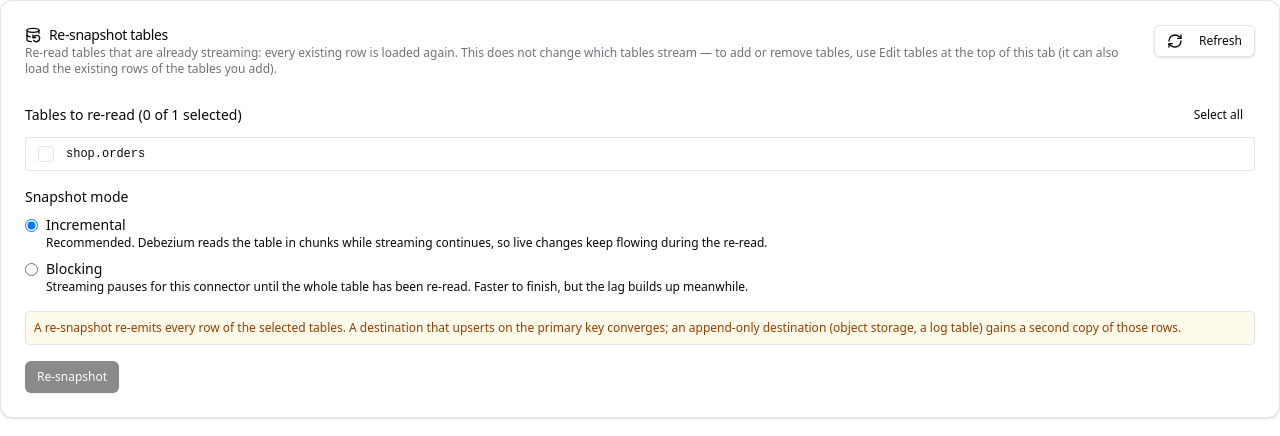
it: CdcResnapshotCard › tells the operator a retry will not help when the pipeline has no signal channel
This screenshot has width=1280, height=436.
Click the checkbox named "Re-snapshot shop.orders" at (46, 154), box x1=38 y1=146 x2=54 y2=162
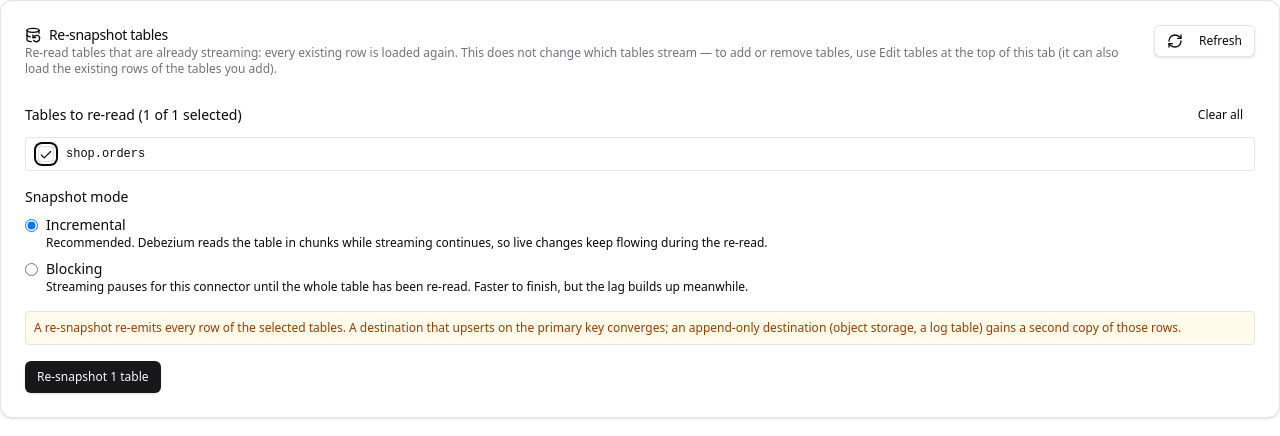
Click the button "Re-snapshot 1 table" at (93, 377), box x1=25 y1=361 x2=160 y2=393
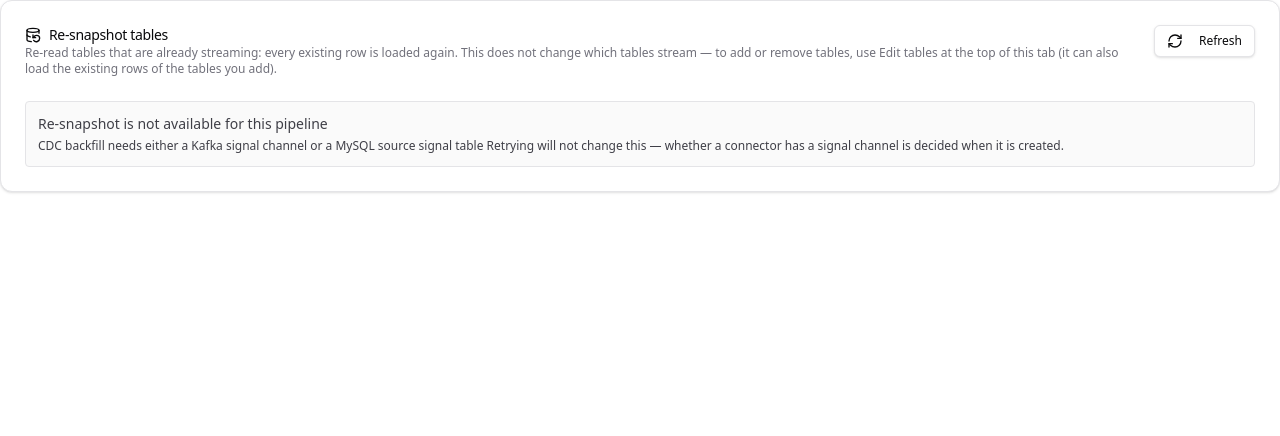
Expected: the text "Re-snapshot is not available for this pipeline" is shown, x1=38 y1=114 x2=328 y2=133
Expected: the text "Retrying will not change this" is shown, x1=38 y1=137 x2=1064 y2=154
